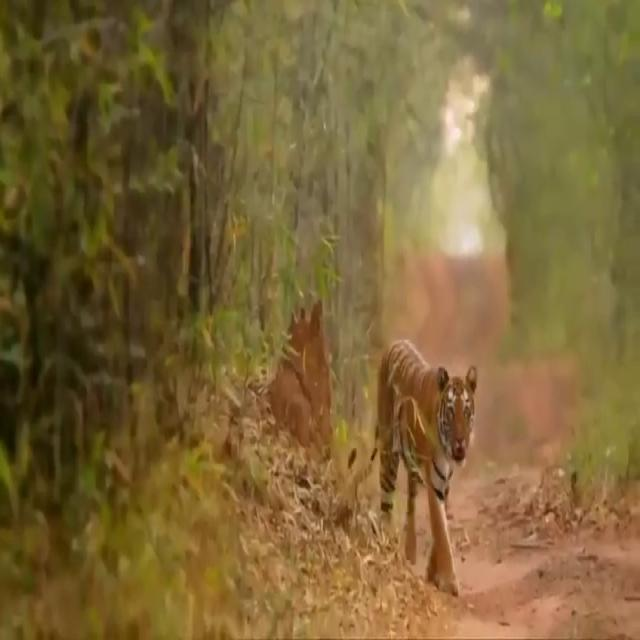tiger: (347, 338, 478, 598)
